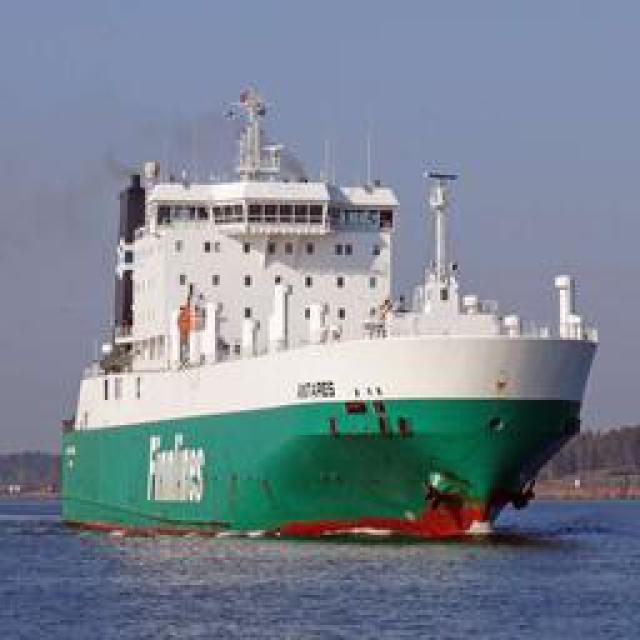Ship: (60, 72, 600, 535)
